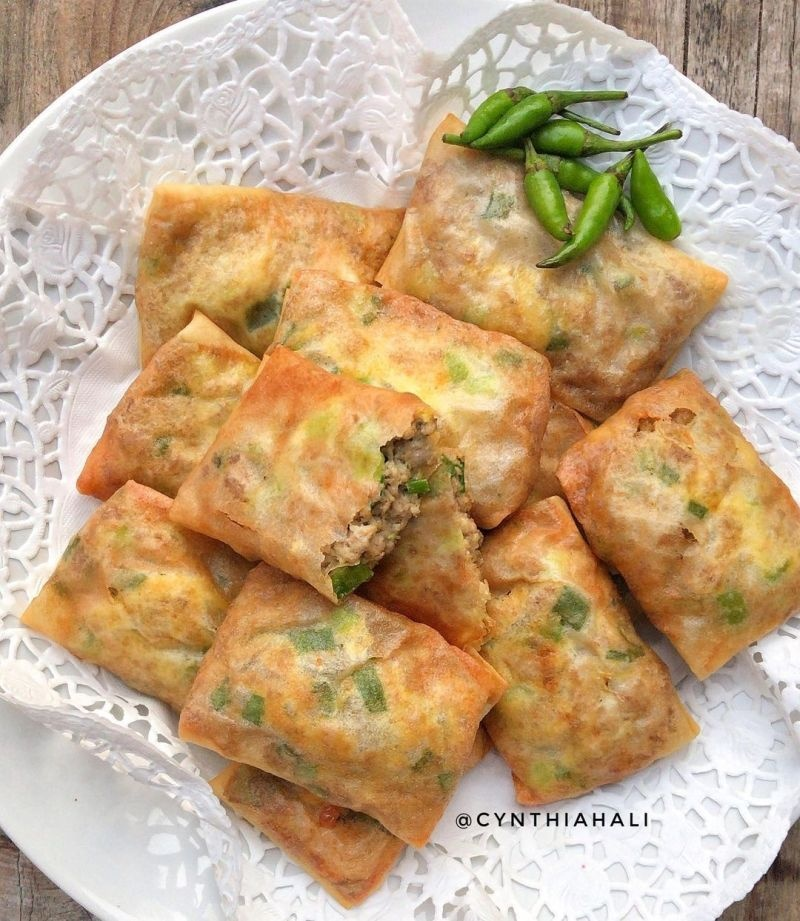martabak: (19, 112, 798, 911)
